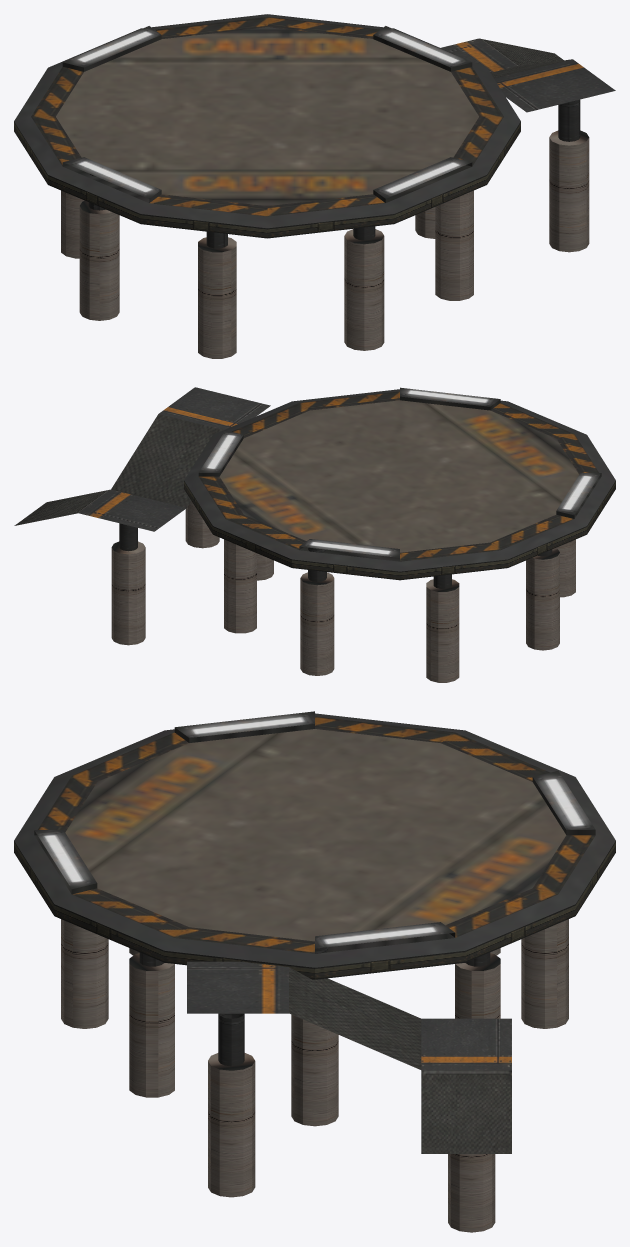
The model's file is aeroport.dae.
The picture shows the model from 3 angles, top to bottom: view 1: azimuth 30°, elevation 25°; view 2: azimuth 150°, elevation 25°; view 3: azimuth 270°, elevation 25°; orthographic projection. The views are drawn at different scales.
Parts seen in each view (by area): view 1: aero; view 2: aero; view 3: aero.
Boxes of the visible parts, <box> form: aero: <box>14,14,615,358</box>; aero: <box>14,387,615,682</box>; aero: <box>14,711,615,1232</box>.
Bounding box in the file's own units: 48.55 × 36.15 × 16.31.
